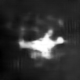plane: (17, 28, 66, 61)
